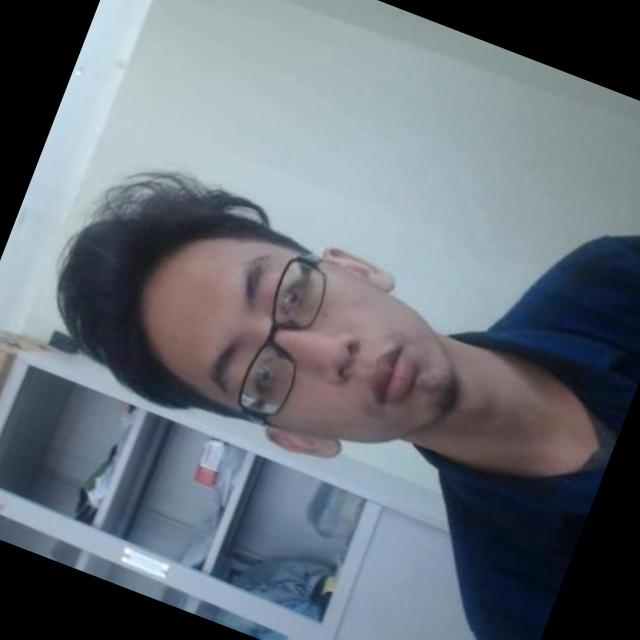bareface: (13, 130, 518, 544)
